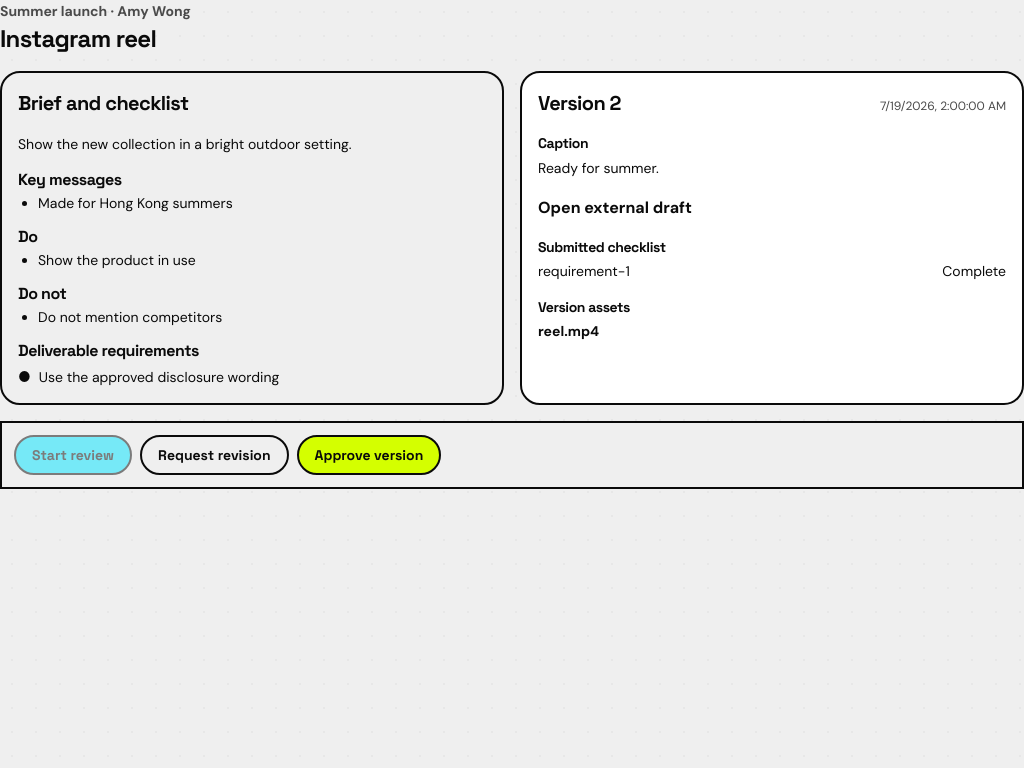
ActiveMissionReview › announces action failures and preserves the original error for auth handling
Step 1. Click the button "Approve version" → [369, 455], box x1=297 y1=435 x2=441 y2=475
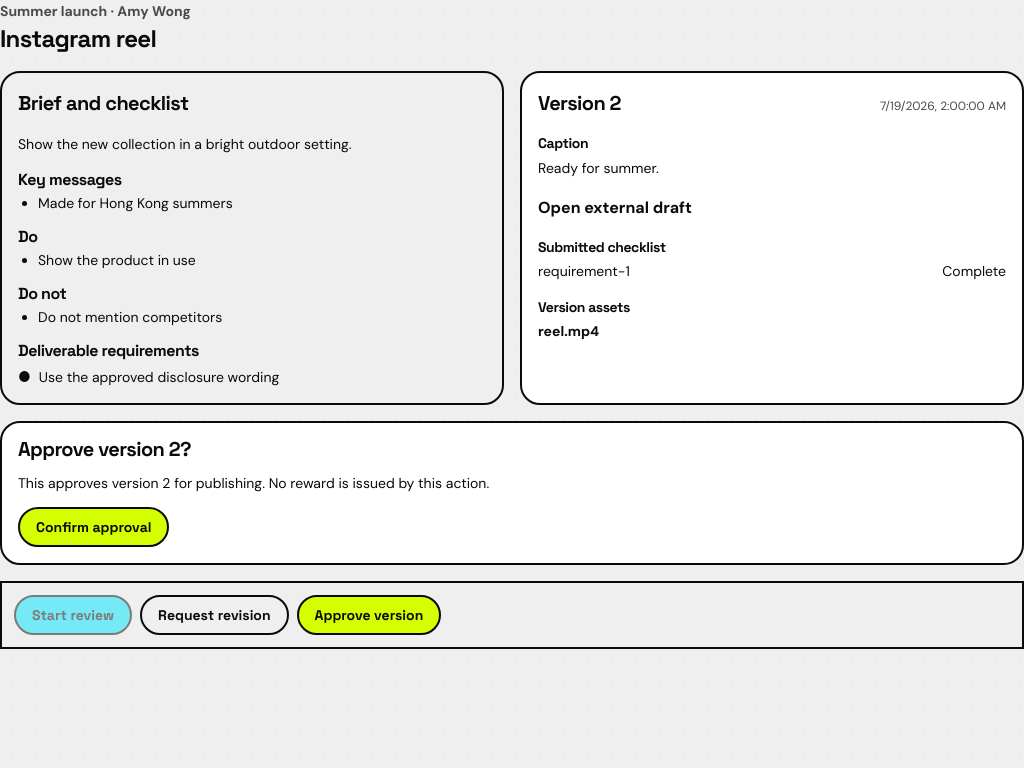
Step 2. Click the button "Confirm approval" → [94, 528], box x1=18 y1=508 x2=170 y2=548
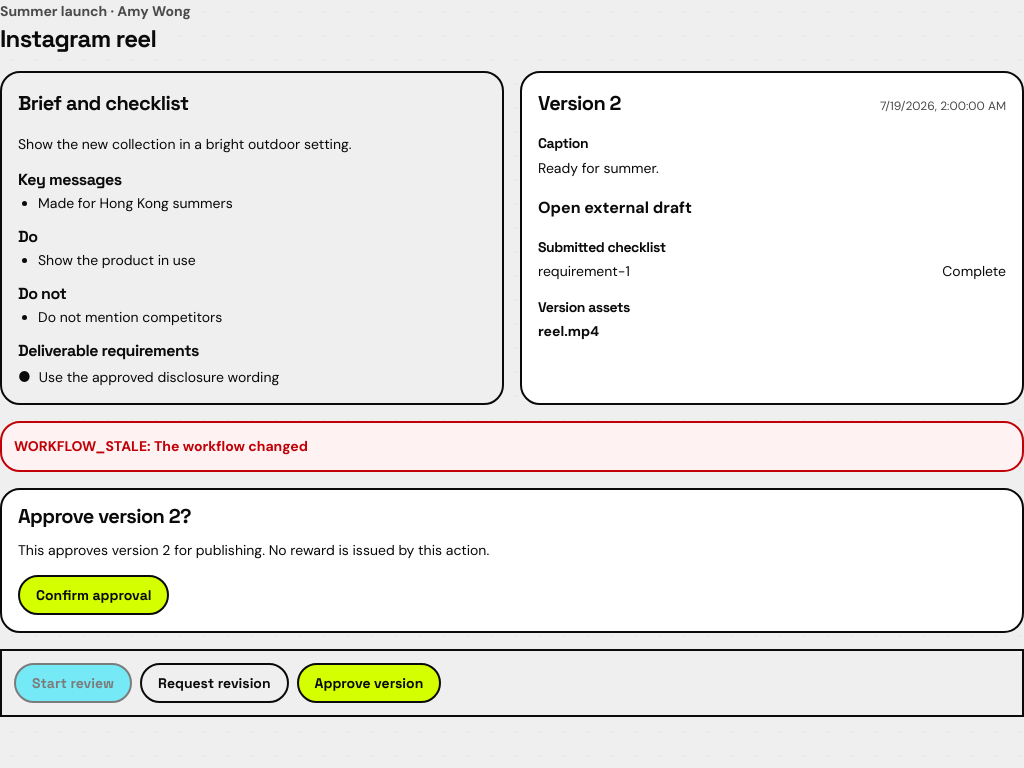
Expected: the message reads "WORKFLOW_STALE: The workflow changed", x1=14 y1=437 x2=308 y2=455
